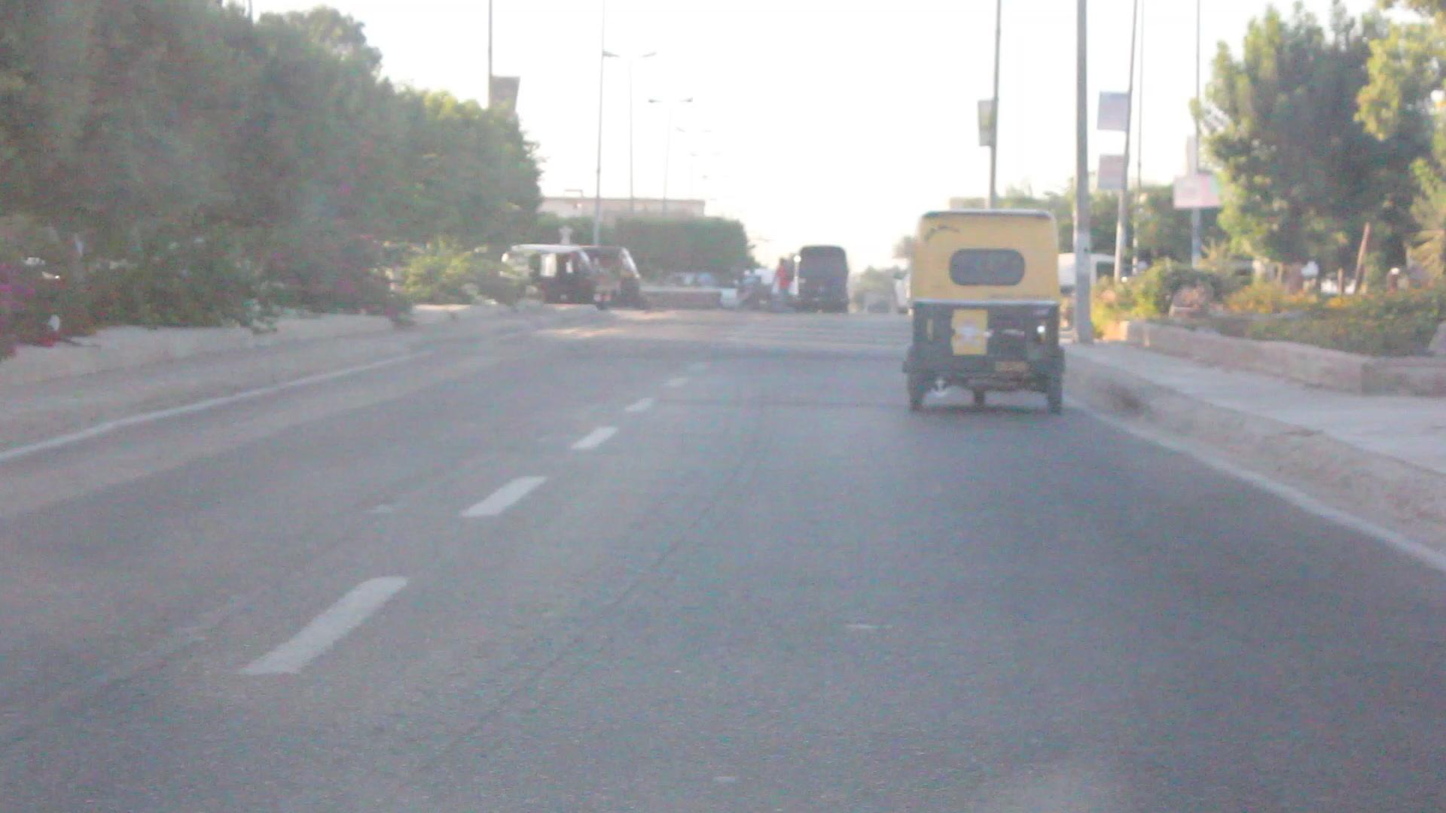Bump: (533, 333, 909, 365)
